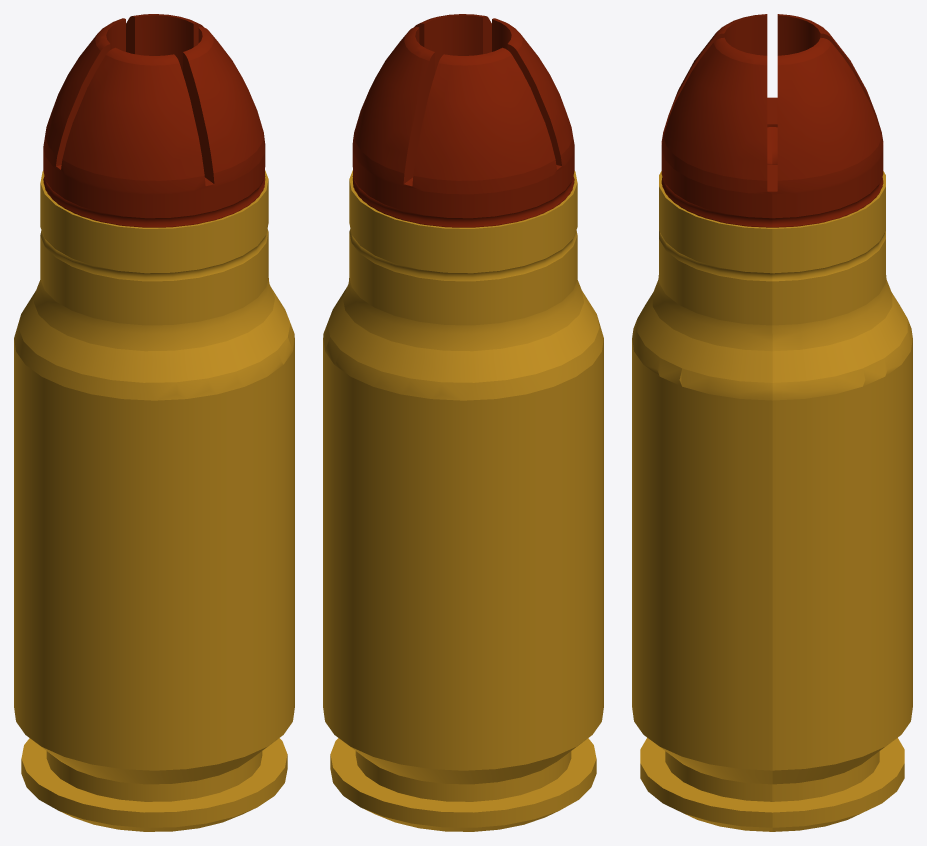
3 views of the same model, side by side, from view 1: azimuth 30°, elevation 25°; view 2: azimuth 150°, elevation 25°; view 3: azimuth 270°, elevation 25° (orthographic).
Parts seen in each view (by area): view 1: o4_IndexedFaceSet_o4_IndexedFaceSet.010, o17_IndexedFaceSet_o17_IndexedFaceSet.002; view 2: o4_IndexedFaceSet_o4_IndexedFaceSet.010, o17_IndexedFaceSet_o17_IndexedFaceSet.002; view 3: o4_IndexedFaceSet_o4_IndexedFaceSet.010, o17_IndexedFaceSet_o17_IndexedFaceSet.002.
Boxes of the visible parts, x1,y1,x2,y2 form: o4_IndexedFaceSet_o4_IndexedFaceSet.010: (14,170,294,831); o17_IndexedFaceSet_o17_IndexedFaceSet.002: (43,14,265,227); o4_IndexedFaceSet_o4_IndexedFaceSet.010: (323,170,603,831); o17_IndexedFaceSet_o17_IndexedFaceSet.002: (352,14,574,227); o4_IndexedFaceSet_o4_IndexedFaceSet.010: (632,171,912,831); o17_IndexedFaceSet_o17_IndexedFaceSet.002: (661,14,883,227).
Size of the model in its own units: 13.74 by 40.56 by 13.77.
